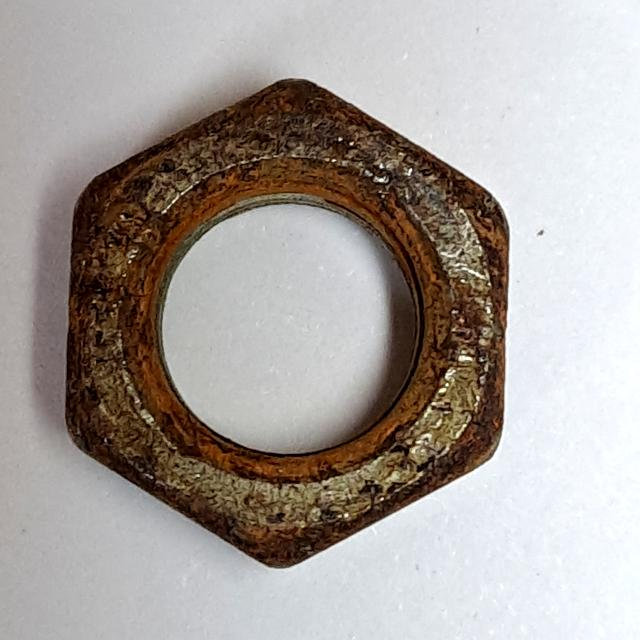Rust: (51, 61, 525, 584)
